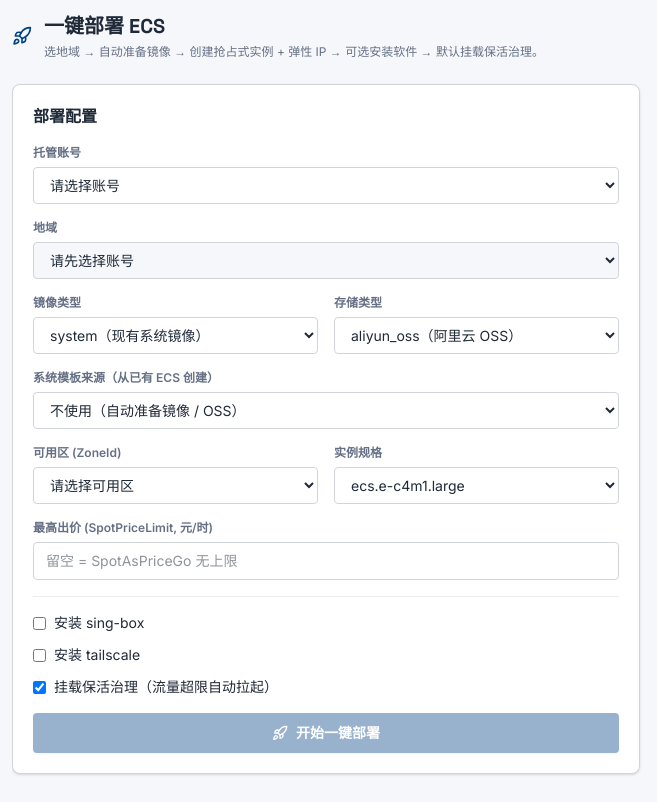
DeploymentPage form › shows auto-installer option and hint when selected
Select "auto-installer（Alpine 自动安装器，自动等待 SSH）" in the dropdown labelled "镜像类型". click: (176, 336)
box: [33,317,318,354]
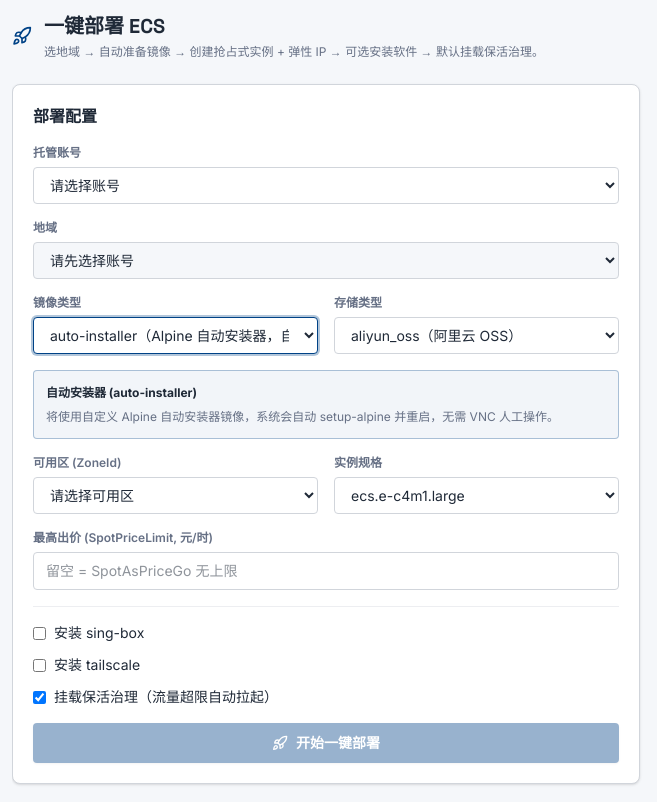
Expected: the text "将使用自定义 Alpine 自动安装器镜像，系统会自动 setup-alpine 并重启，无需 VNC 人工操作。" is shown, [46,406,606,426]
